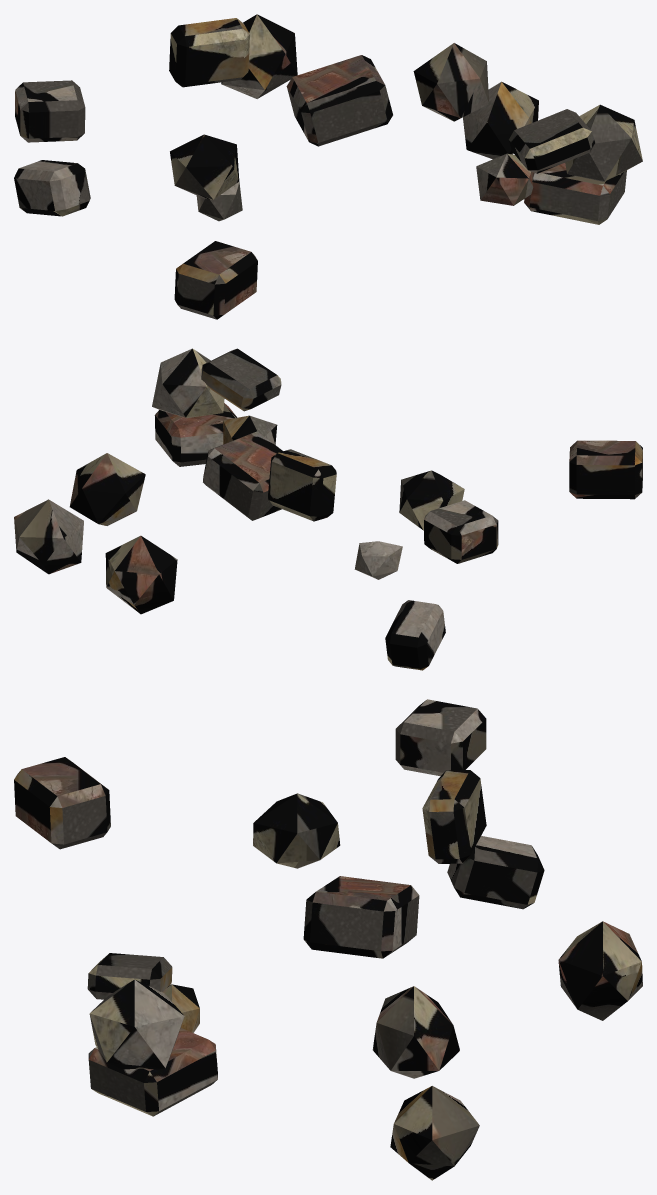
File: prop_rubble_small.glb
The picture shows the model from 3 angles, top to bottom: view 1: azimuth 30°, elevation 25°; view 2: azimuth 150°, elevation 25°; view 3: azimuth 270°, elevation 25°; orthographic projection. The views are drawn at different scales.
Parts seen in each view (by area): view 1: Rubble; view 2: Rubble; view 3: Rubble.
Part boxes in pixels (x1,y1,x2,y2): Rubble: (14,14,642,319); Rubble: (14,348,642,670); Rubble: (14,699,642,1180).
Size of the model in its own units: 0.6074 by 0.2236 by 0.5425.
Materials: 1 (1 with a texture image).
